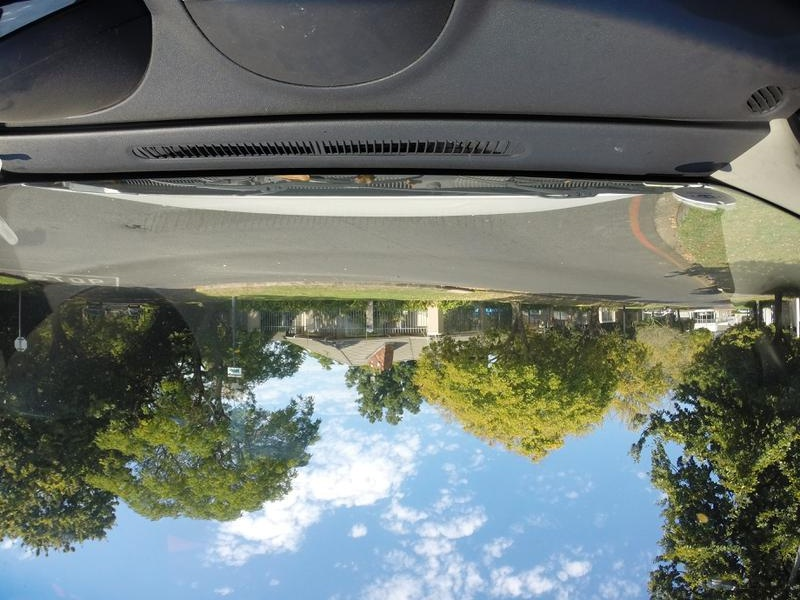pothole: (126, 222, 141, 229)
